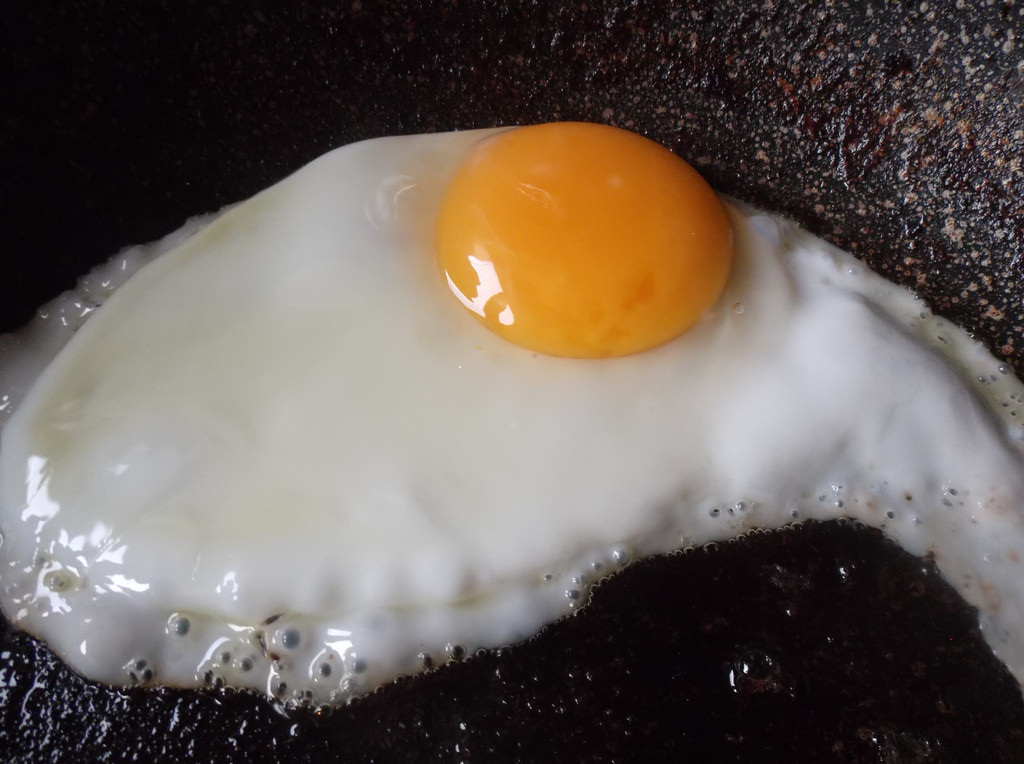fried egg: (15, 137, 1024, 709)
